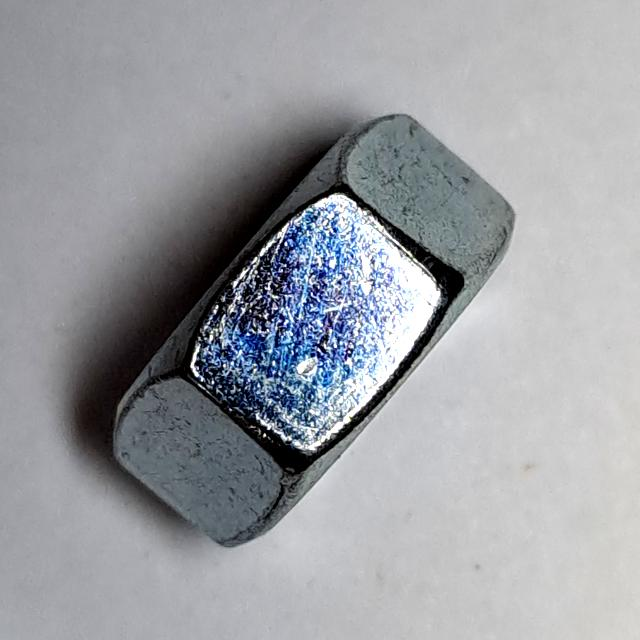Side_Excellent: (94, 89, 539, 567)
